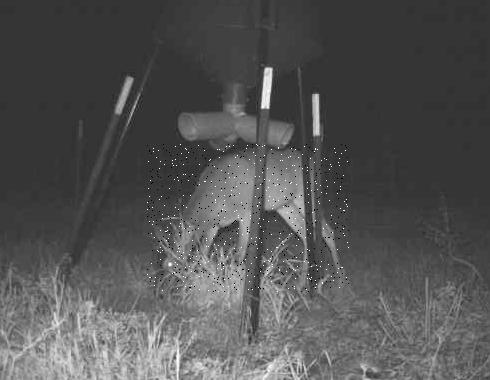Deer: (147, 145, 349, 293)
